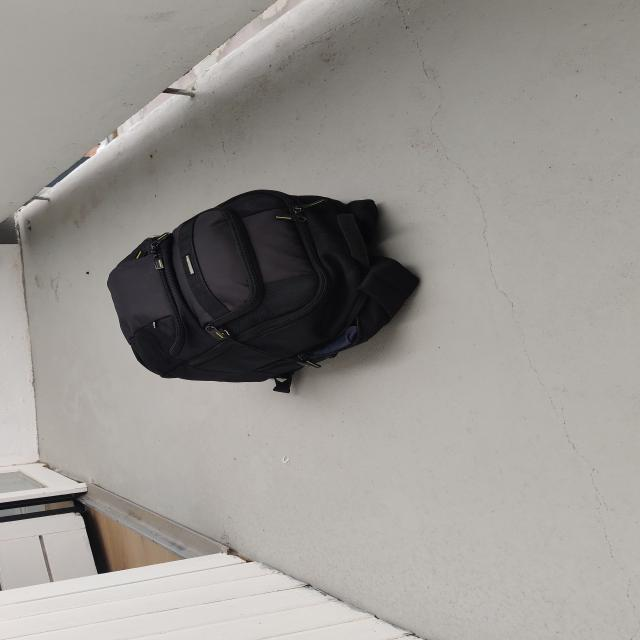backpack: (96, 183, 427, 390)
